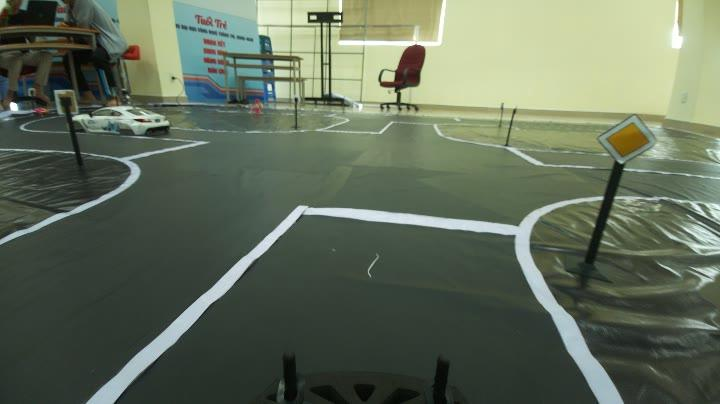priority: (590, 120, 660, 166)
